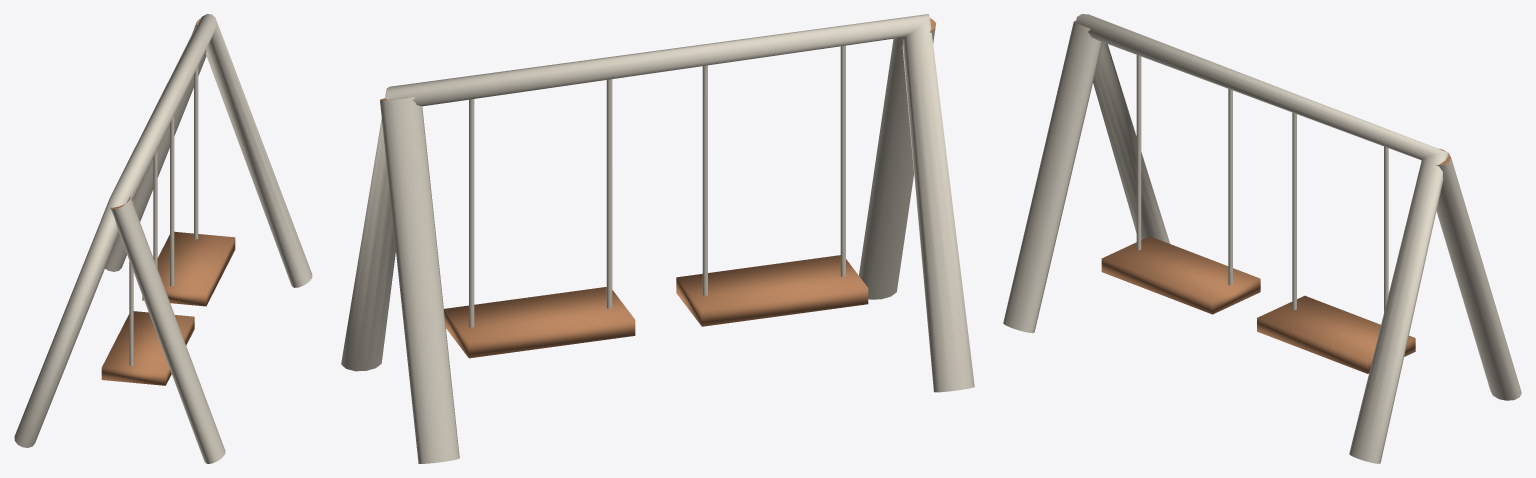
File: 068_ブランコ.glb
3 views of the same model, side by side, from view 1: azimuth 30°, elevation 25°; view 2: azimuth 150°, elevation 25°; view 3: azimuth 270°, elevation 25° (orthographic). The views are drawn at different scales.
Visible parts, largest first — view 1: 立方体108_1, 立方体108; view 2: 立方体108_1, 立方体108; view 3: 立方体108_1, 立方体108.
Boxes of the visible parts, x1=… form: 立方体108_1: x1=14, y1=14, x2=312, y2=463; 立方体108: x1=101, y1=19, x2=235, y2=385; 立方体108_1: x1=341, y1=14, x2=974, y2=463; 立方体108: x1=380, y1=18, x2=935, y2=358; 立方体108_1: x1=1003, y1=14, x2=1521, y2=463; 立方体108: x1=1074, y1=20, x2=1450, y2=373.
Bounding box in the file's own units: 4.88 × 3.03 × 5.09.
